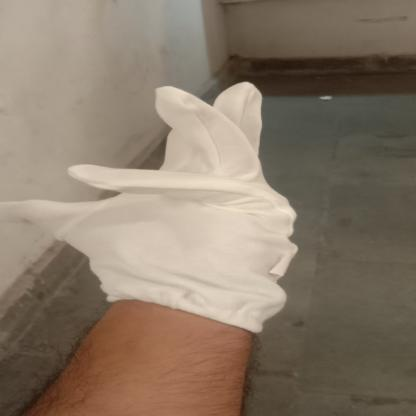gloved_hand: (6, 78, 306, 340)
